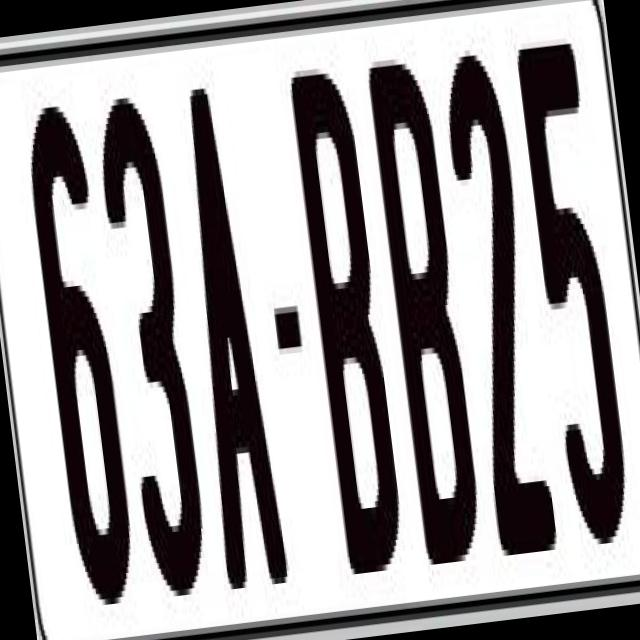2: (434, 39, 564, 580)
3: (90, 82, 217, 587)
5: (512, 42, 638, 570)
6: (21, 91, 148, 619)
A: (162, 73, 286, 578)
B: (284, 65, 408, 604), (362, 44, 488, 554)
